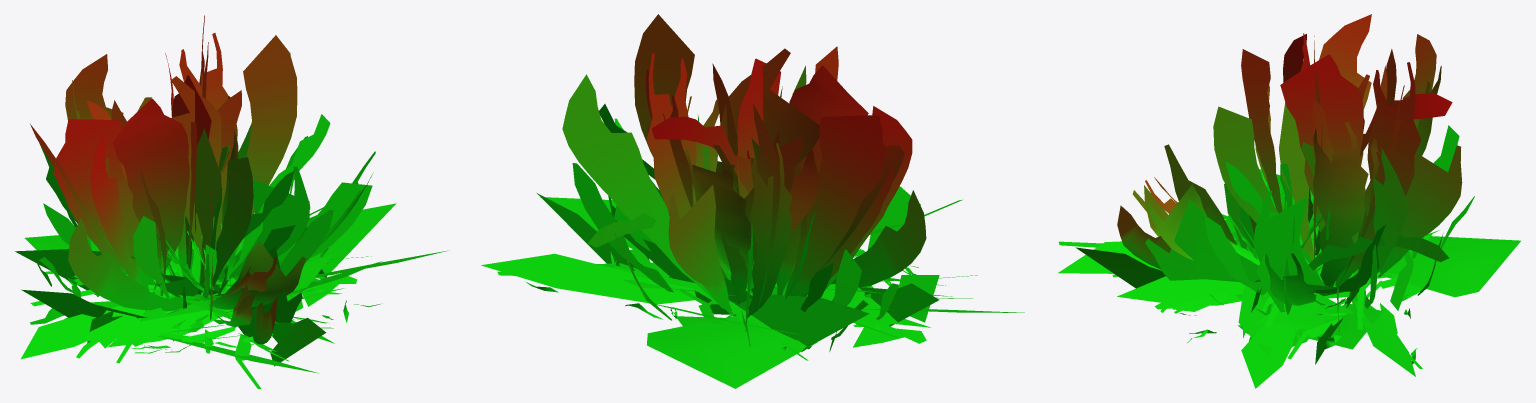
File: Dead Shrubs_LOD0_Var5_vdknafgha.fbx
3 views of the same model, side by side, from view 1: azimuth 30°, elevation 25°; view 2: azimuth 150°, elevation 25°; view 3: azimuth 270°, elevation 25° (orthographic). The views are drawn at different scales.
Visible parts, largest first — view 1: _6u26_Var5_LOD0; view 2: _6u26_Var5_LOD0; view 3: _6u26_Var5_LOD0.
Boxes of the visible parts, x1,y1,x2,y2 form: _6u26_Var5_LOD0: [15, 15, 449, 388]; _6u26_Var5_LOD0: [481, 14, 1024, 388]; _6u26_Var5_LOD0: [1058, 14, 1520, 388].
Bounding box in the file's own units: 118 × 65.85 × 104.
